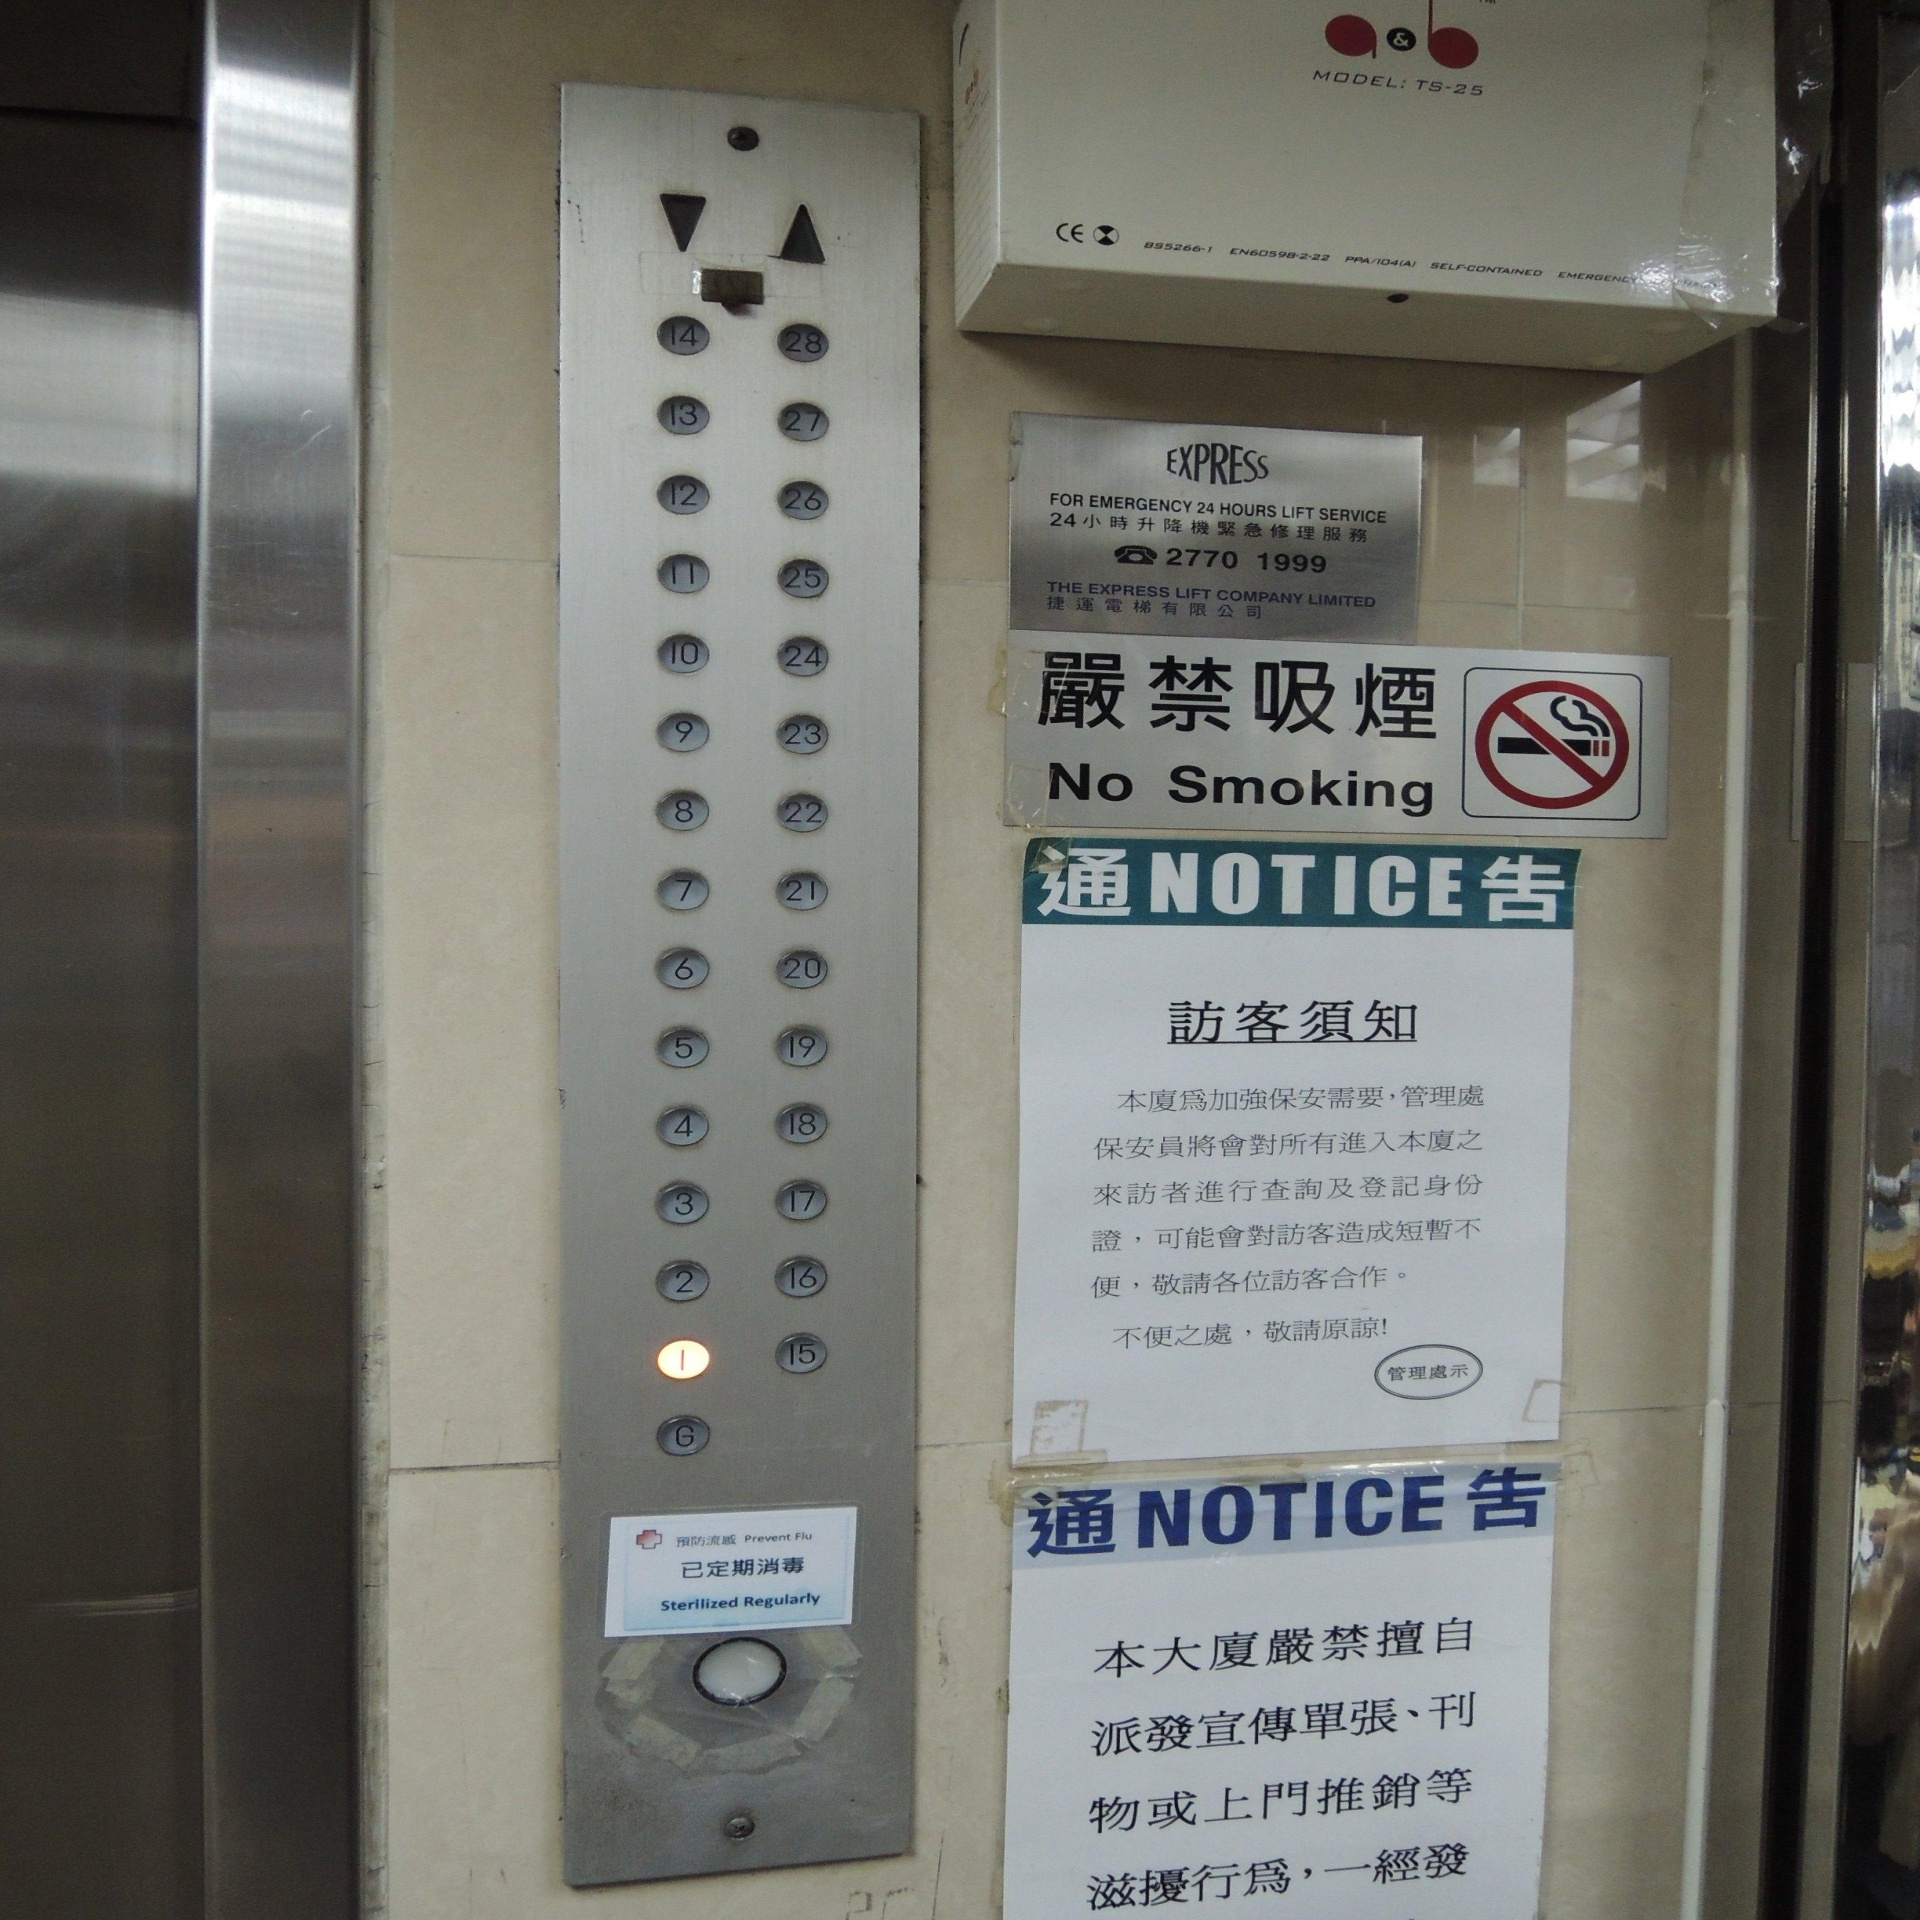1: (656, 1336, 710, 1380)
10: (656, 629, 710, 673)
11: (656, 550, 710, 594)
12: (656, 473, 710, 517)
13: (656, 390, 714, 440)
14: (656, 309, 714, 359)
15: (774, 1329, 830, 1377)
16: (772, 1255, 826, 1299)
17: (772, 1178, 826, 1222)
18: (774, 1102, 828, 1146)
19: (774, 1023, 832, 1071)
2: (654, 1257, 709, 1303)
20: (774, 948, 828, 992)
21: (775, 869, 830, 913)
22: (774, 789, 832, 835)
23: (774, 710, 832, 756)
24: (772, 635, 832, 680)
25: (775, 556, 830, 600)
26: (774, 476, 833, 522)
27: (774, 397, 832, 445)
28: (774, 320, 832, 366)
3: (654, 1180, 709, 1224)
4: (654, 1102, 709, 1146)
5: (654, 1025, 709, 1069)
6: (652, 944, 709, 988)
7: (654, 867, 709, 911)
8: (654, 789, 709, 833)
9: (656, 709, 710, 753)
G: (656, 1414, 714, 1458)
empty: (691, 1635, 789, 1709)
